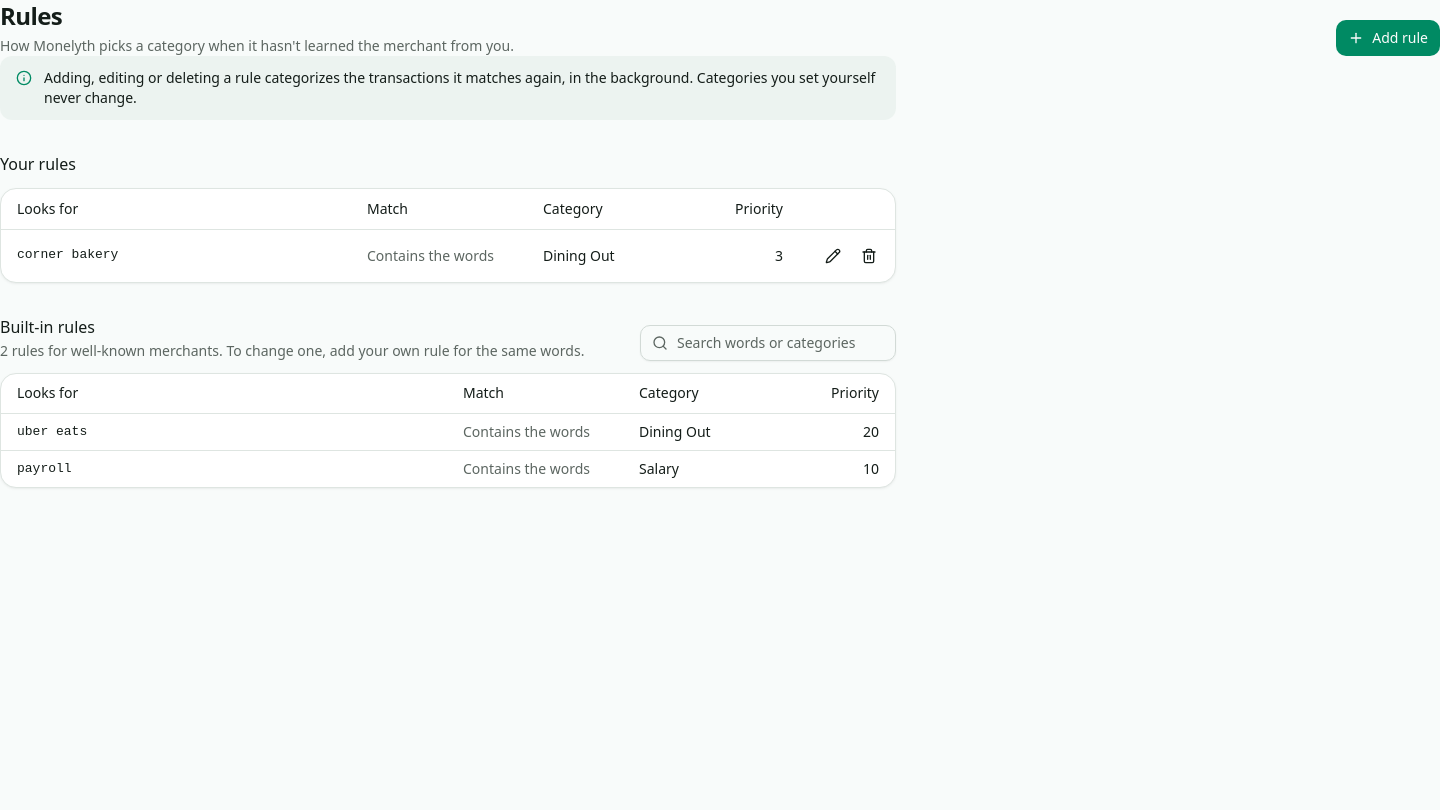
Test case: RulesScreen › deletes one of the user's rules after confirming
The image size is (1440, 810).
Click the button named "Delete the rule for corner bakery" at (869, 256), box [851,238,887,274]
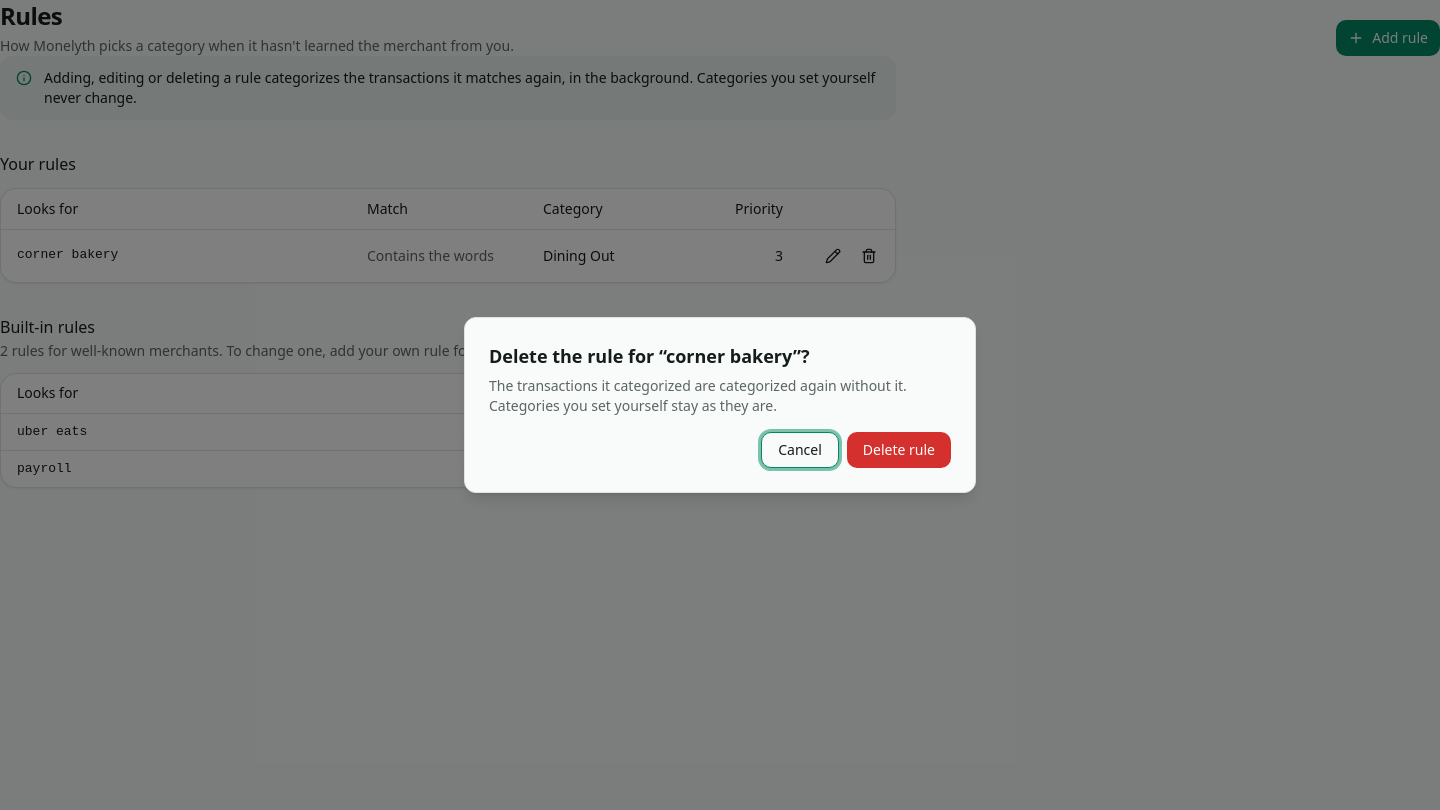
Expected: the text "Categories you set yourself stay" is shown, [489,376,907,415]
Click the button "Delete rule" at (899, 450), box [847,432,951,468]
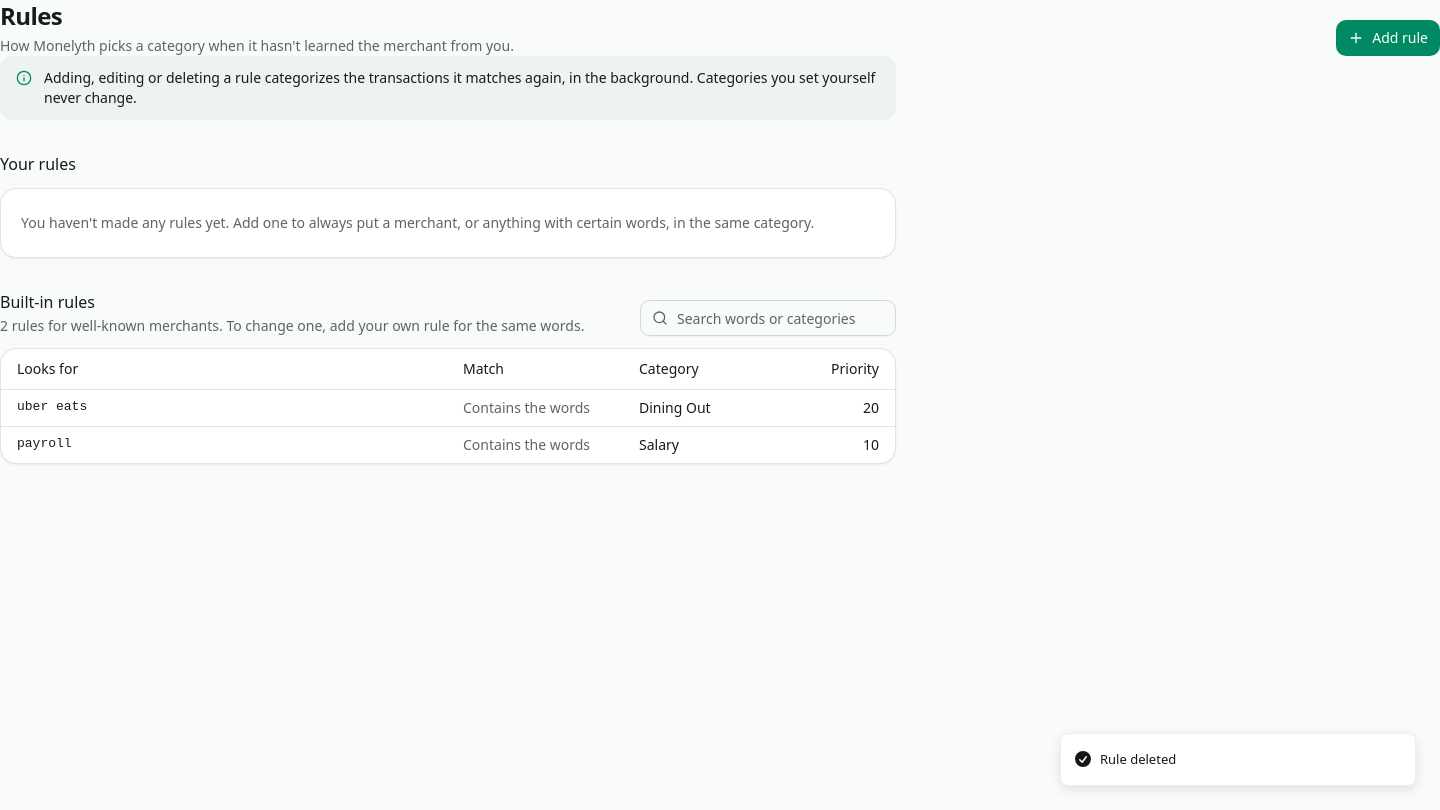
Expected: the text "Rule deleted" is shown, [1100,750,1176,769]
Expected: the text "You haven't made any rules yet" is shown, [21,213,814,232]
